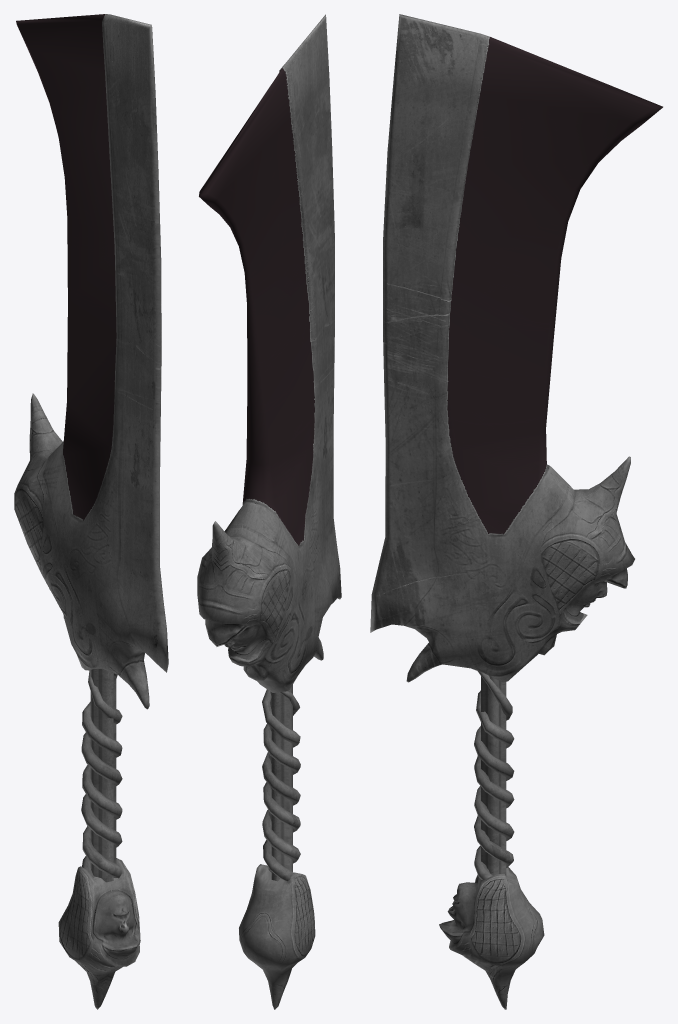
Rendered from Demon_Sword_Mesh.FBX.
3 renders of one model, left to right at view 1: azimuth 30°, elevation 25°; view 2: azimuth 150°, elevation 25°; view 3: azimuth 270°, elevation 25°, orthographic. The views are drawn at different scales.
Visible parts, largest first — view 1: Sword; view 2: Sword; view 3: Sword.
Part boxes in pixels (x1,y1,x2,y2): Sword: [14, 14, 168, 1009]; Sword: [197, 14, 341, 1009]; Sword: [370, 14, 662, 1009].
Size of the model in its own units: 14.24 by 47.35 by 177.
